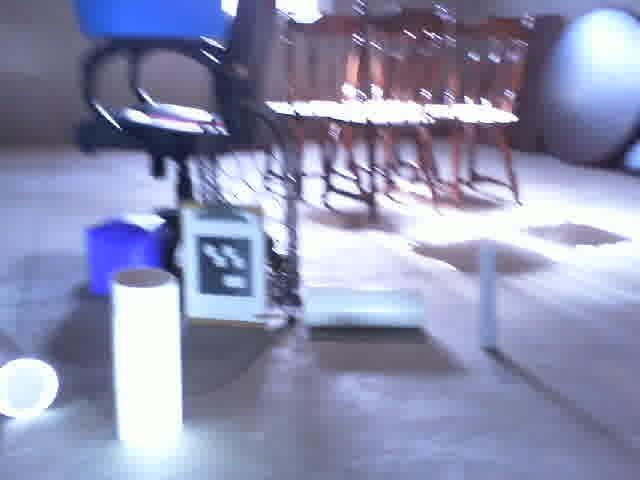coral: (109, 264, 181, 456), (298, 279, 430, 332), (0, 330, 62, 425)
